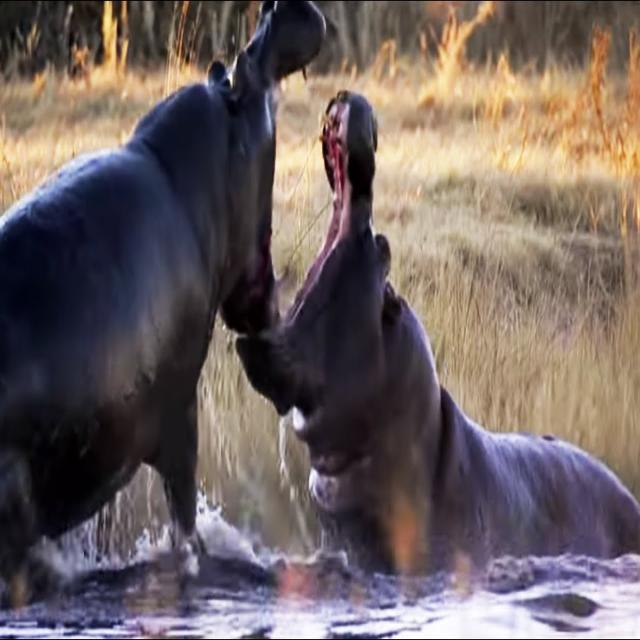Hippopotamus: (0, 0, 327, 640), (258, 80, 636, 604)
